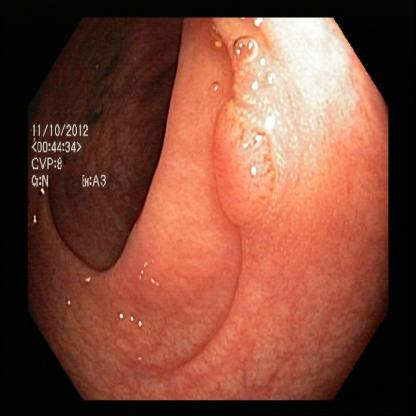Labels: (29, 115, 120, 192)
Polyps: (218, 92, 286, 226)
